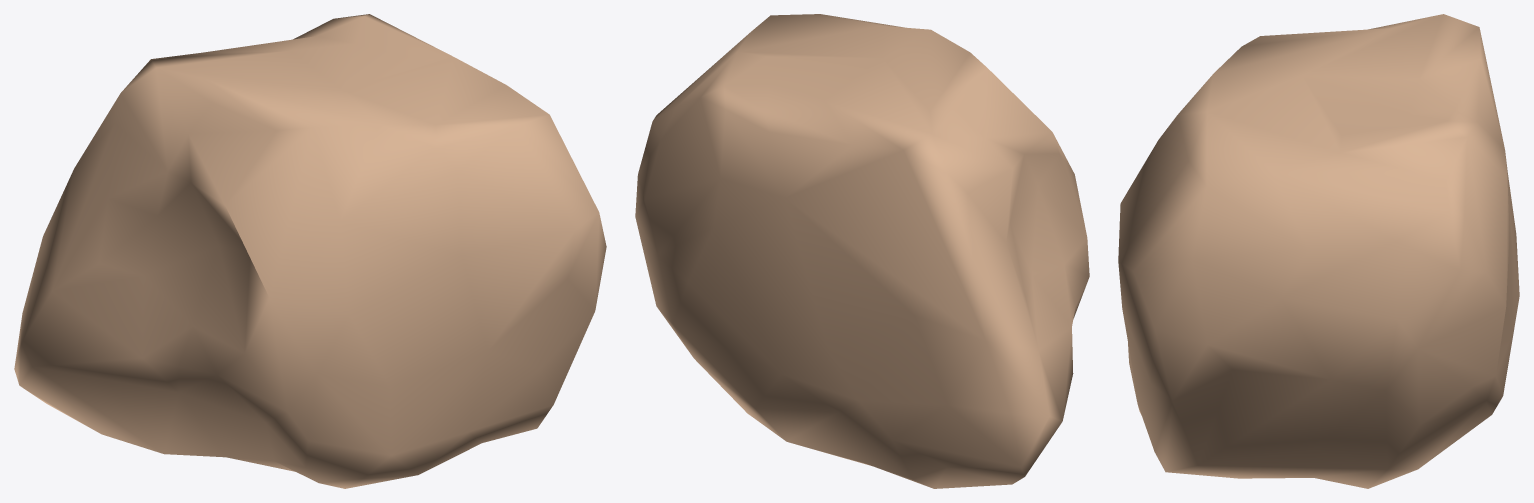
File: Rock_1c.gltf
The picture shows the model from 3 angles, left to right: view 1: azimuth 30°, elevation 25°; view 2: azimuth 150°, elevation 25°; view 3: azimuth 270°, elevation 25°; orthographic projection. The views are drawn at different scales.
Parts seen in each view (by area): view 1: Rock_1c; view 2: Rock_1c; view 3: Rock_1c.
Part boxes in pixels (x1,y1,x2,y2): Rock_1c: (14,14,606,488); Rock_1c: (635,14,1089,488); Rock_1c: (1118,14,1519,488).
Size of the model in its own units: 39.66 by 29.03 by 29.3.
1 material, 1 textured.
